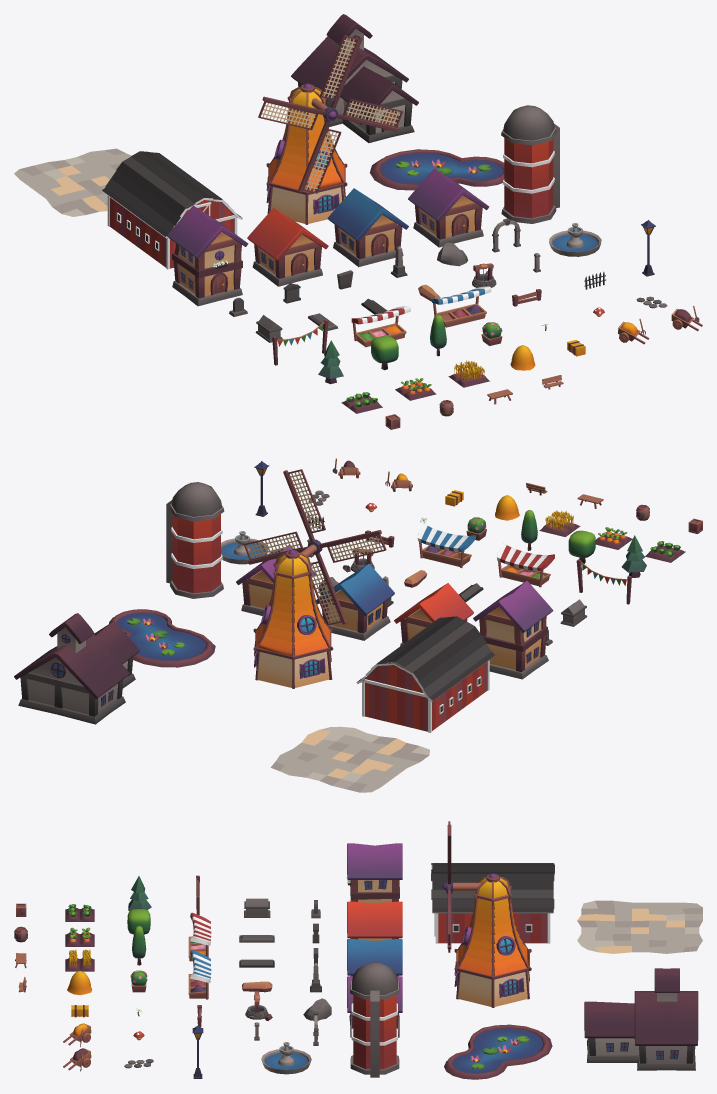
The model's file is village assets.glb.
The picture shows the model from 3 angles, top to bottom: view 1: azimuth 30°, elevation 25°; view 2: azimuth 150°, elevation 25°; view 3: azimuth 270°, elevation 25°; orthographic projection. The views are drawn at different scales.
Visible parts, largest first — view 1: Windmill, Barn, Chapel, Sphere.001, House_2Story_Purple, Plane.002, House_Red, House_Purple, House_Blue, Pond, Market Stall Blue, Fountain (+3 smaller); view 2: Windmill, Barn, Chapel, Plane.002, Sphere.001, House_2Story_Purple, Pond, House_Blue, House_Red, Market Stall Blue, Market Stall Red, House_Purple (+7 smaller); view 3: Chapel, Windmill, Barn, Plane.002, Sphere.001, Pond, House_2Story_Purple, House_Red, House_Blue, Fountain, Market Stall Blue, Market Stall Red (+9 smaller).
Part boxes in pixels (left/top/right/bottom): Windmill: left=258, top=35, right=403, bottom=224; Barn: left=102, top=151, right=242, bottom=269; Chapel: left=291, top=14, right=418, bottom=142; Sphere.001: left=501, top=105, right=559, bottom=223; House_2Story_Purple: left=167, top=205, right=248, bottom=306; Plane.002: left=14, top=148, right=131, bottom=216; House_Red: left=247, top=207, right=328, bottom=286; House_Purple: left=408, top=168, right=489, bottom=247; House_Blue: left=327, top=188, right=408, bottom=267; Pond: left=369, top=149, right=504, bottom=190; Market Stall Blue: left=432, top=286, right=491, bottom=327; Fountain: left=549, top=223, right=601, bottom=256; Windmill: left=243, top=469, right=386, bottom=688; Barn: left=356, top=616, right=495, bottom=732; Chapel: left=14, top=613, right=139, bottom=724; Plane.002: left=270, top=726, right=429, bottom=792; Sphere.001: left=166, top=482, right=224, bottom=598; House_2Story_Purple: left=473, top=580, right=553, bottom=679; Pond: left=109, top=609, right=215, bottom=667; House_Blue: left=316, top=564, right=394, bottom=640; House_Red: left=394, top=583, right=473, bottom=646; Market Stall Blue: left=417, top=522, right=475, bottom=567; Market Stall Red: left=496, top=542, right=554, bottom=587; House_Purple: left=236, top=545, right=315, bottom=615; Chapel: left=584, top=968, right=698, bottom=1070; Windmill: left=442, top=821, right=531, bottom=1007; Barn: left=431, top=863, right=554, bottom=943; Plane.002: left=577, top=900, right=702, bottom=953; Sphere.001: left=350, top=962, right=399, bottom=1077; Pond: left=444, top=1024, right=552, bottom=1079; House_2Story_Purple: left=346, top=843, right=402, bottom=903; House_Red: left=347, top=901, right=402, bottom=941; House_Blue: left=347, top=939, right=402, bottom=976; Fountain: left=261, top=1042, right=311, bottom=1074; Market Stall Blue: left=188, top=950, right=211, bottom=999; Market Stall Red: left=188, top=912, right=211, bottom=961.
Bounding box in the file's own units: 14.37 × 6.63 × 23.37.
3 materials, 3 textured.
